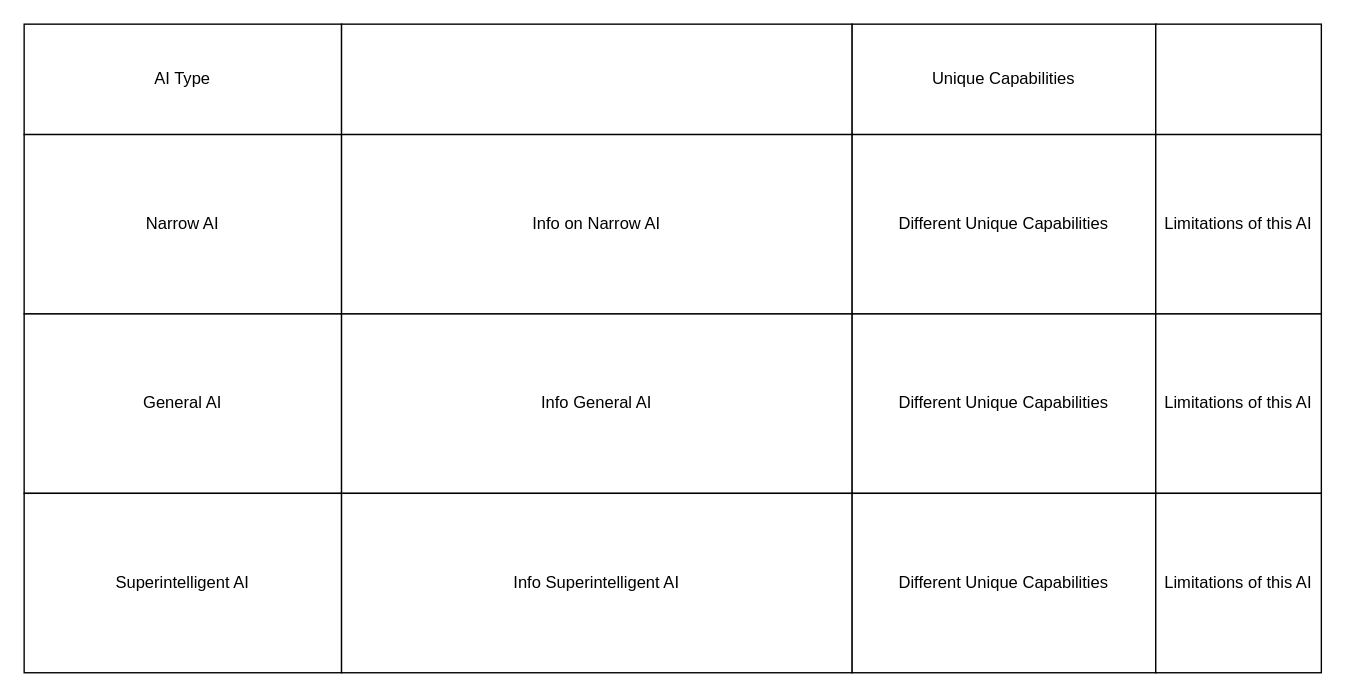
The diagram is 1346 pixels wide and 697 high, and some of its shapes have lost their labels. The shapes that lost their labels are listed below. From the top down, each one's centre as x and y in pixels, then its label:
(x=596, y=79): Key Characteristics and Examples
(x=1237, y=79): Limitations
